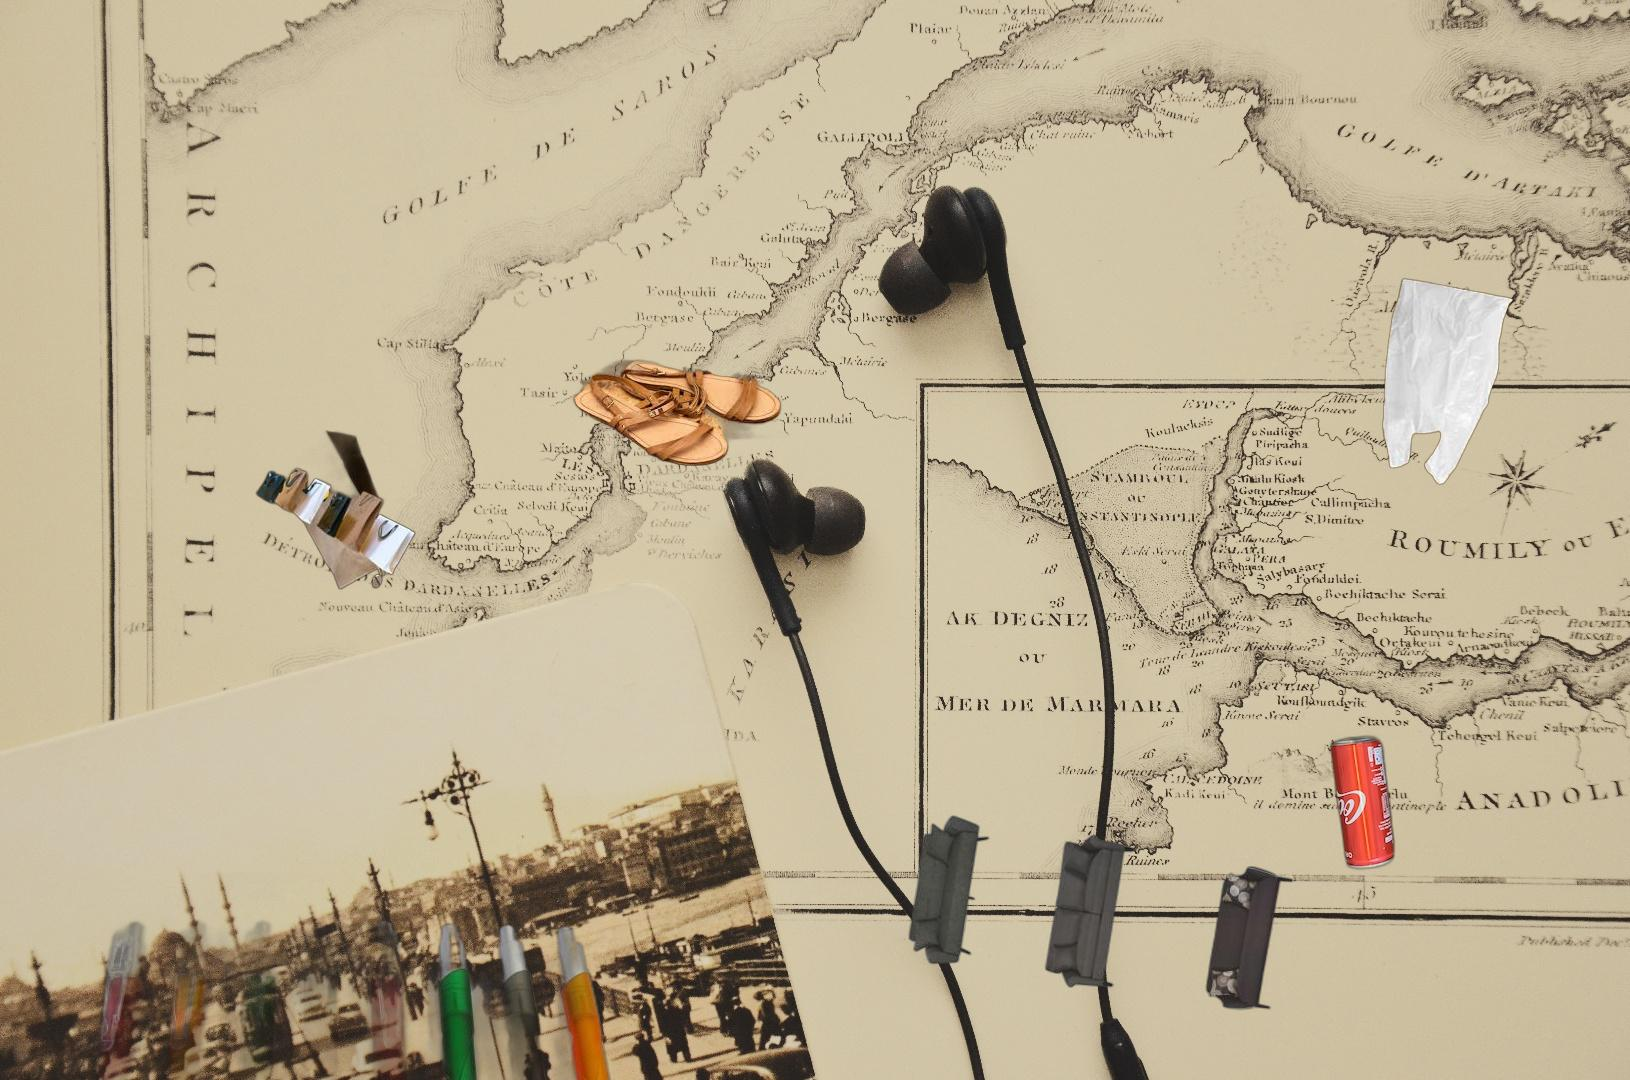metal-cans: (1326, 730, 1399, 874)
paper: (904, 812, 1297, 1012)
paper-bag: (253, 428, 418, 592)
penholder: (45, 871, 648, 1080), (83, 1069, 760, 1080)
plastic-bag: (1379, 275, 1516, 487)
shoes: (570, 356, 789, 468)
